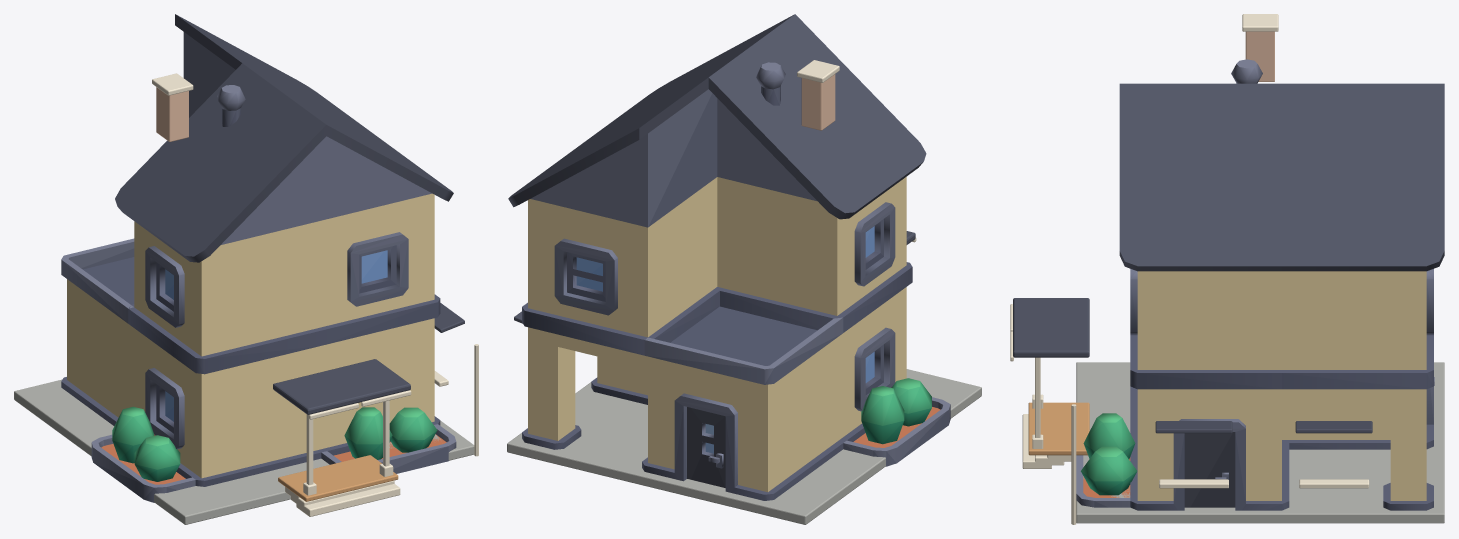
File: house_cedar.glb
3 renders of one model, left to right at view 1: azimuth 30°, elevation 25°; view 2: azimuth 150°, elevation 25°; view 3: azimuth 270°, elevation 25°, orthographic. The views are drawn at different scales.
Parts seen in each view (by area): view 1: house_cedar_Mesh; view 2: house_cedar_Mesh; view 3: house_cedar_Mesh.
Boxes of the visible parts, bbox=[...] form: house_cedar_Mesh: bbox=[14, 14, 478, 524]; house_cedar_Mesh: bbox=[507, 14, 981, 524]; house_cedar_Mesh: bbox=[1010, 14, 1444, 524].
Bounding box in the file's own units: 8.84 × 9.52 × 9.62.
